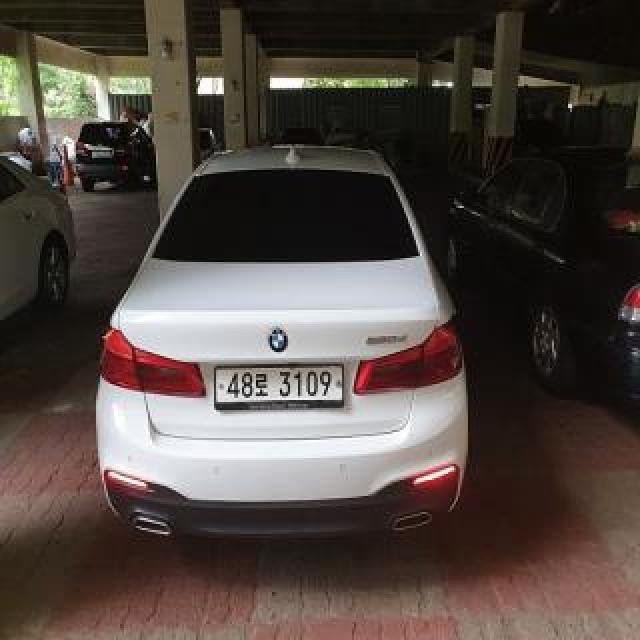car: (91, 135, 474, 547)
illegal_plate: (216, 364, 347, 408)
